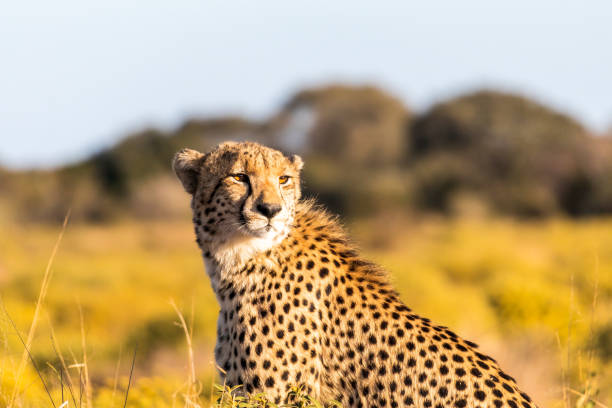cheetah: (161, 136, 327, 277)
